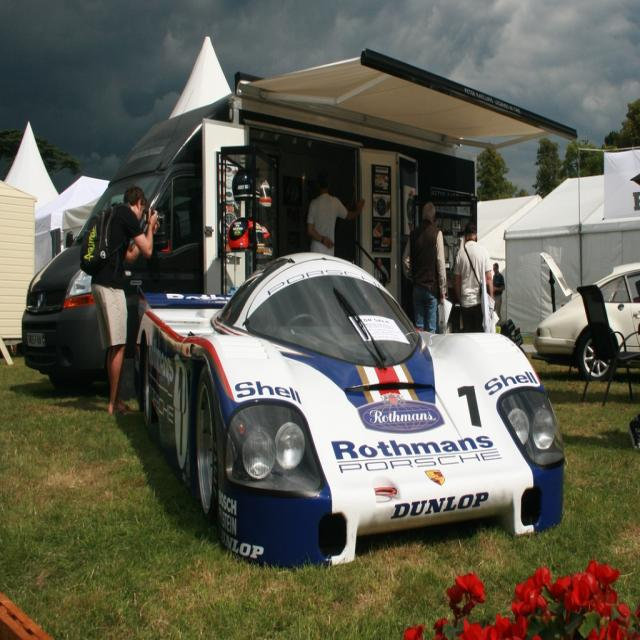car: (130, 243, 568, 567)
